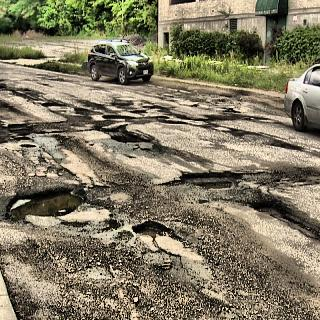pothole: (5, 182, 80, 228), (161, 166, 247, 192), (251, 202, 308, 228), (100, 118, 151, 146), (128, 216, 172, 241), (8, 120, 36, 150), (271, 136, 303, 152), (152, 111, 182, 125), (38, 96, 68, 110), (98, 113, 133, 121), (130, 107, 148, 115), (73, 106, 91, 112)
